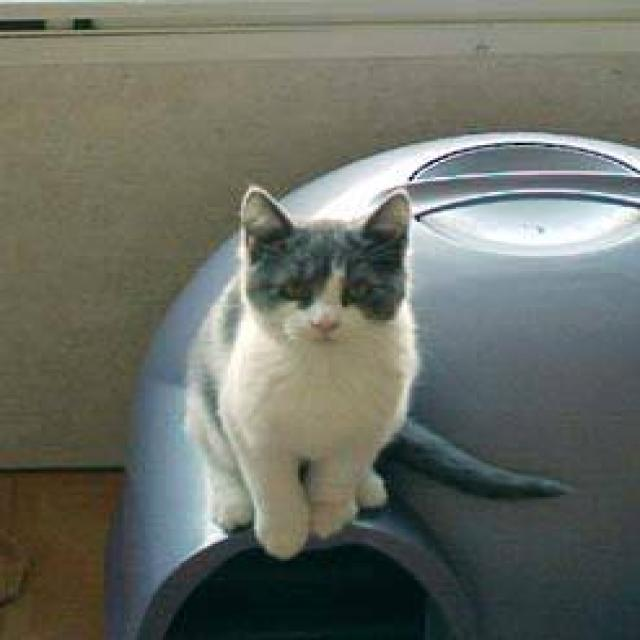cat: (182, 181, 576, 561)
